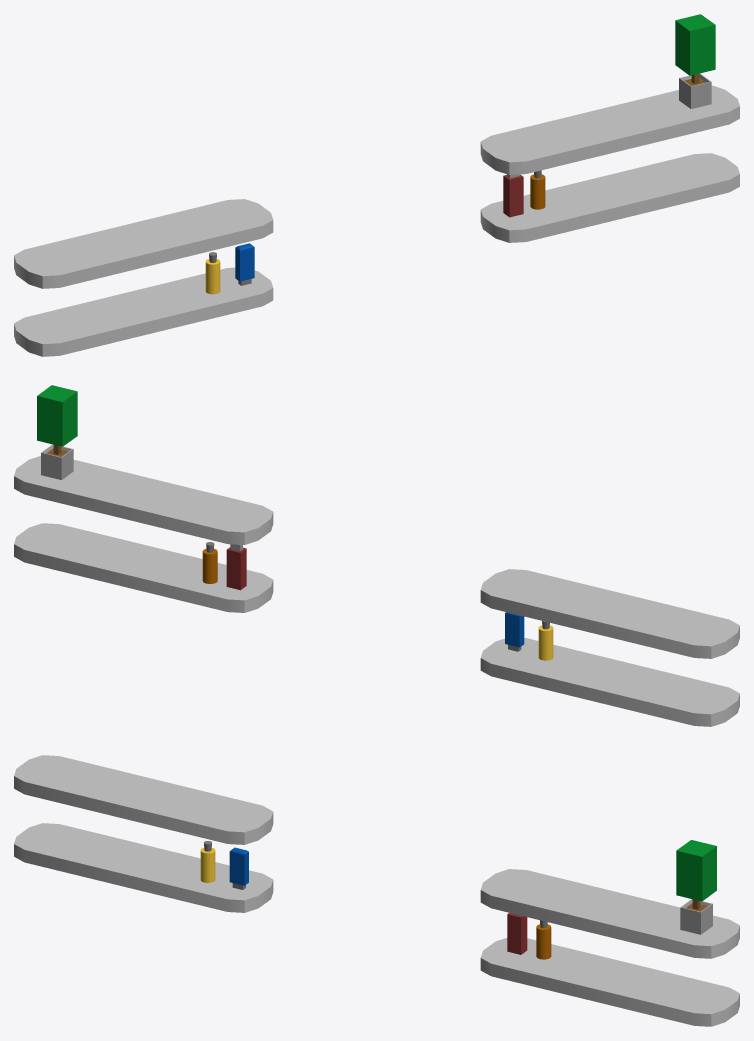
File: Bathroom props.fbx
3 views of the same model, one above another, from view 1: azimuth 30°, elevation 25°; view 2: azimuth 150°, elevation 25°; view 3: azimuth 330°, elevation 25° (orthographic).
Visible parts, largest first — view 1: Bathroom shelf, Tree, bottle.001, bottle.003, bottle.002, bottle; view 2: Bathroom shelf, Tree, bottle.001, bottle.003, bottle, bottle.002; view 3: Bathroom shelf, Tree, bottle.001, bottle.003, bottle.002, bottle.
Part boxes in pixels (x1,y1,x2,y2): Bathroom shelf: (14,85,739,356); Tree: (675,14,715,108); bottle.001: (503,174,523,217); bottle.003: (235,243,254,285); bottle.002: (205,252,220,294); bottle: (530,170,545,209); Bathroom shelf: (14,456,739,726); Tree: (37,385,77,480); bottle.001: (226,544,246,590); bottle.003: (505,612,524,651); bottle: (202,542,217,583); bottle.002: (538,621,553,660); Bathroom shelf: (14,755,739,1026); Tree: (676,840,716,934); bottle.001: (507,913,527,954); bottle.003: (229,847,248,889); bottle.002: (200,841,215,882); bottle: (536,920,551,959).
Size of the model in its own units: 1.89 by 0.4076 by 0.162.
1 material, 1 textured.
